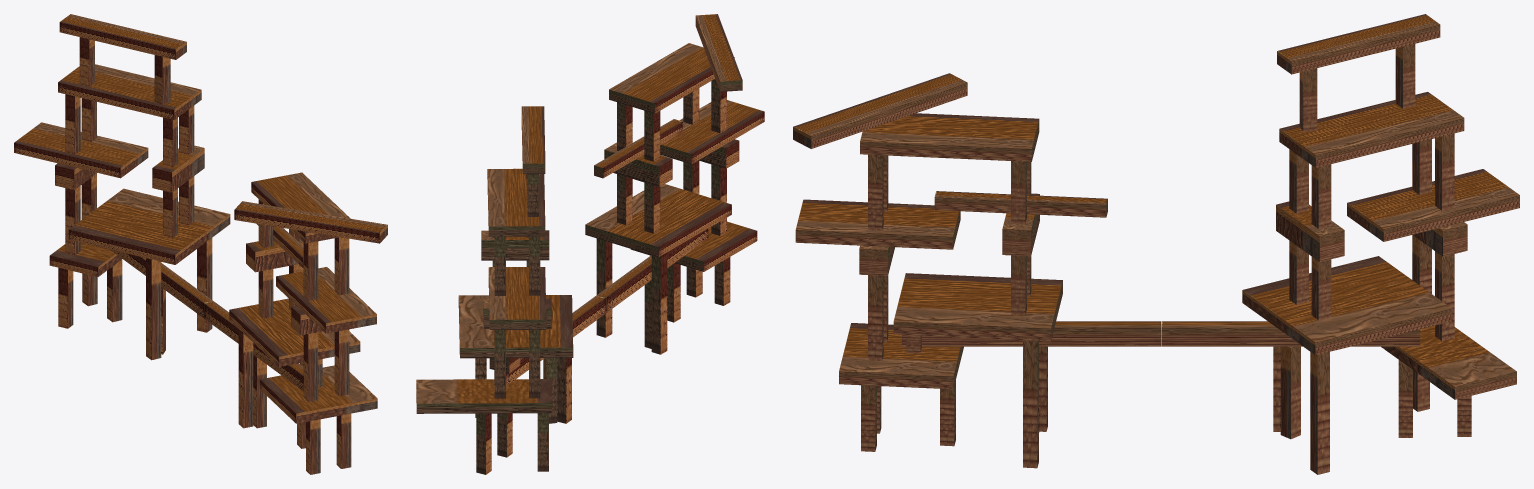
The model's file is M4_Dynamic1Wood_2kg.fbx.
The picture shows the model from 3 angles, left to right: view 1: azimuth 30°, elevation 25°; view 2: azimuth 150°, elevation 25°; view 3: azimuth 270°, elevation 25°; orthographic projection. The views are drawn at different scales.
Visible parts, largest first — view 1: D1Box25, D1Box33, D1Box40, D1Box9, D1Box4, D1Box15, D1Box23, D1Box21, D1Box49, D1Box27, D1Box30, D1Box32 (+29 smaller); view 2: D1Box9, D1Box30, D1Box25, D1Box21, D1Box33, D1Box15, D1Box40, D1Box23, D1Box4, D1Box22, D1Box6, D1Box49 (+29 smaller); view 3: D1Box25, D1Box9, D1Box33, D1Box21, D1Box15, D1Box40, D1Box4, D1Box30, D1Box23, D1Box49, D1Box32, D1Box22 (+26 smaller).
Boxes of the visible parts, bbox=[...] form: D1Box25: bbox=[68, 188, 230, 264]; D1Box33: bbox=[58, 64, 201, 119]; D1Box40: bbox=[14, 122, 148, 178]; D1Box9: bbox=[229, 298, 360, 366]; D1Box4: bbox=[260, 365, 377, 423]; D1Box15: bbox=[276, 267, 376, 333]; D1Box23: bbox=[234, 201, 387, 243]; D1Box21: bbox=[251, 172, 350, 243]; D1Box49: bbox=[59, 14, 186, 59]; D1Box27: bbox=[146, 258, 161, 360]; D1Box30: bbox=[49, 242, 121, 276]; D1Box32: bbox=[110, 249, 213, 318]; D1Box9: bbox=[585, 184, 731, 257]; D1Box30: bbox=[416, 379, 552, 413]; D1Box25: bbox=[458, 295, 573, 358]; D1Box21: bbox=[609, 43, 734, 113]; D1Box33: bbox=[487, 168, 545, 236]; D1Box15: bbox=[660, 100, 764, 164]; D1Box40: bbox=[488, 267, 546, 329]; D1Box23: bbox=[695, 14, 742, 91]; D1Box4: bbox=[630, 221, 757, 271]; D1Box22: bbox=[596, 229, 708, 312]; D1Box6: bbox=[651, 252, 667, 354]; D1Box49: bbox=[521, 106, 545, 173]; D1Box25: bbox=[1242, 256, 1451, 355]; D1Box9: bbox=[893, 273, 1062, 341]; D1Box33: bbox=[1279, 92, 1464, 167]; D1Box21: bbox=[860, 113, 1039, 161]; D1Box15: bbox=[795, 199, 960, 249]; D1Box40: bbox=[1347, 169, 1519, 241]; D1Box4: bbox=[839, 323, 963, 389]; D1Box30: bbox=[1381, 325, 1516, 399]; D1Box23: bbox=[793, 73, 967, 148]; D1Box49: bbox=[1277, 14, 1440, 74]; D1Box32: bbox=[1161, 321, 1420, 346]; D1Box22: bbox=[902, 321, 1160, 346].
Size of what is drawn, in the model's own units: 15.67 by 30 by 50.51.
